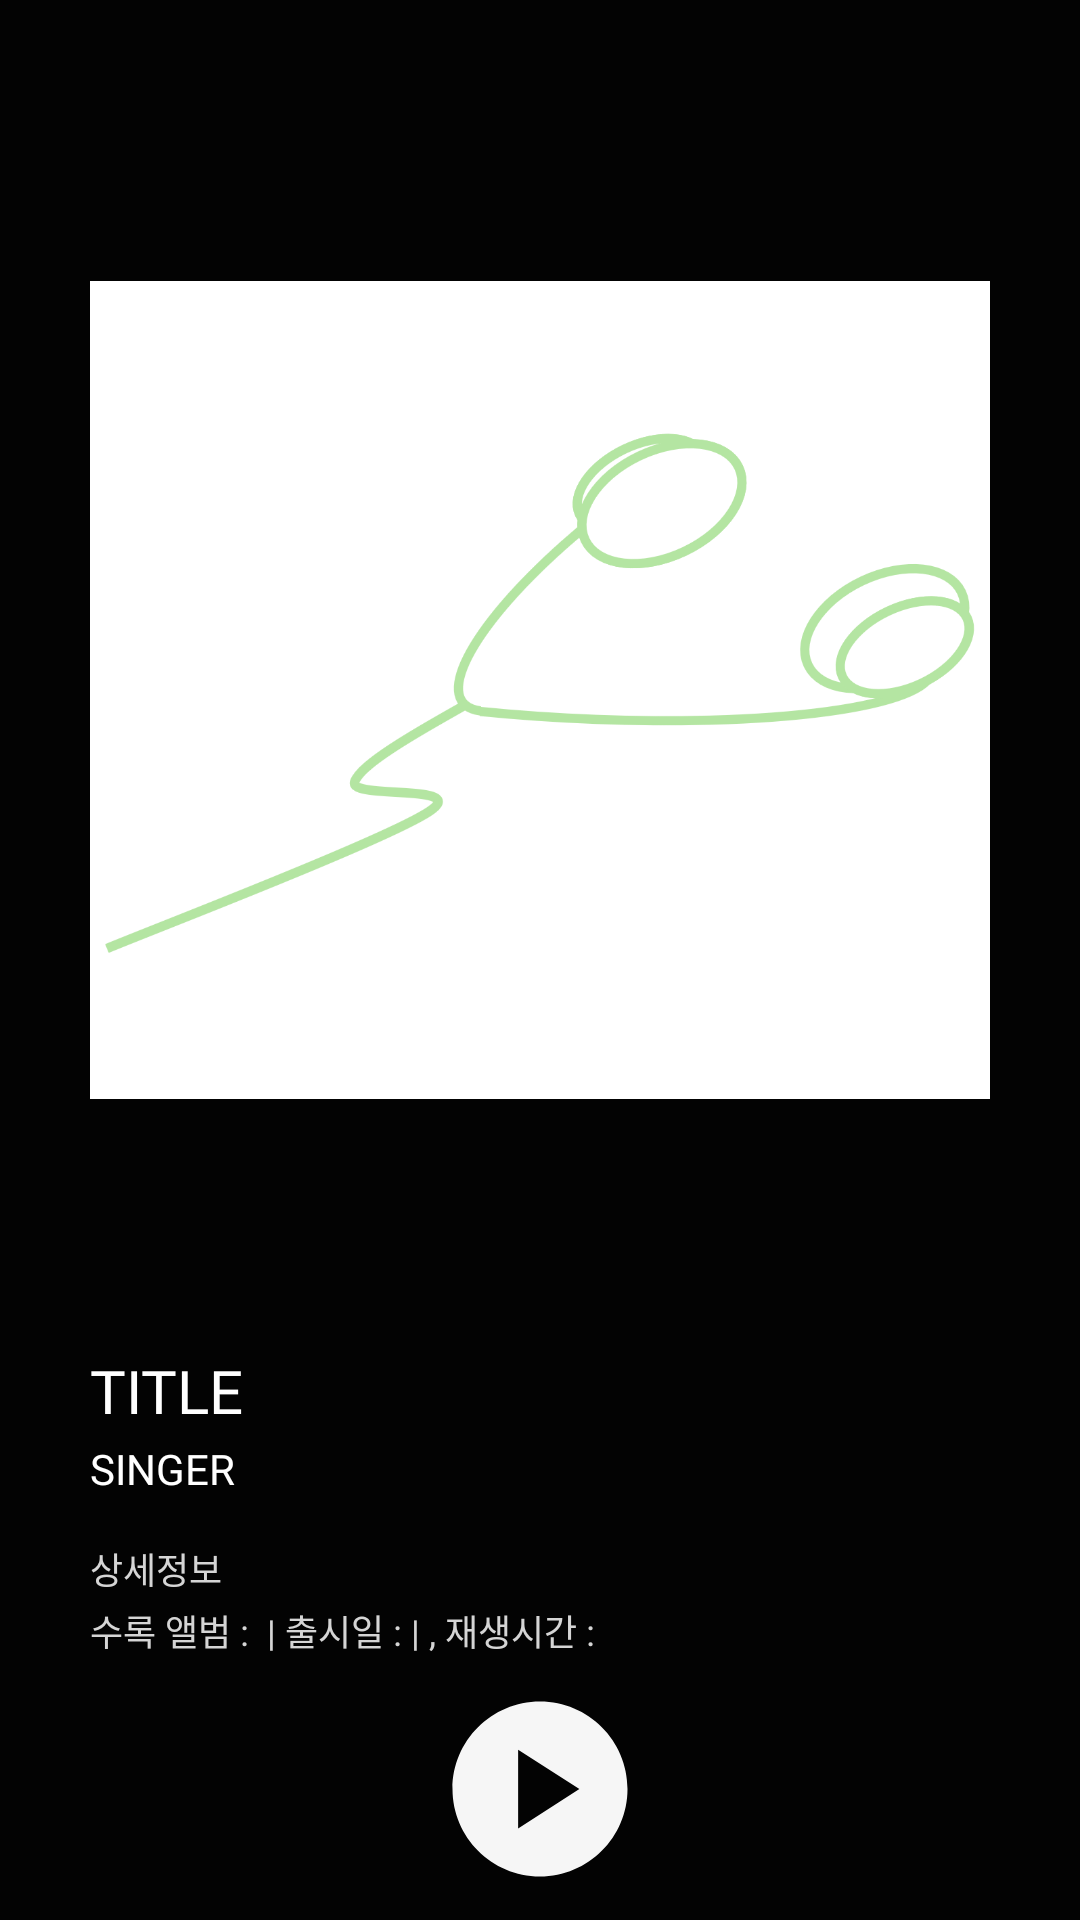

Icon click points for this 1080 x 1920 phone screenshot, format point (x, y):
play: point (540, 1789)
